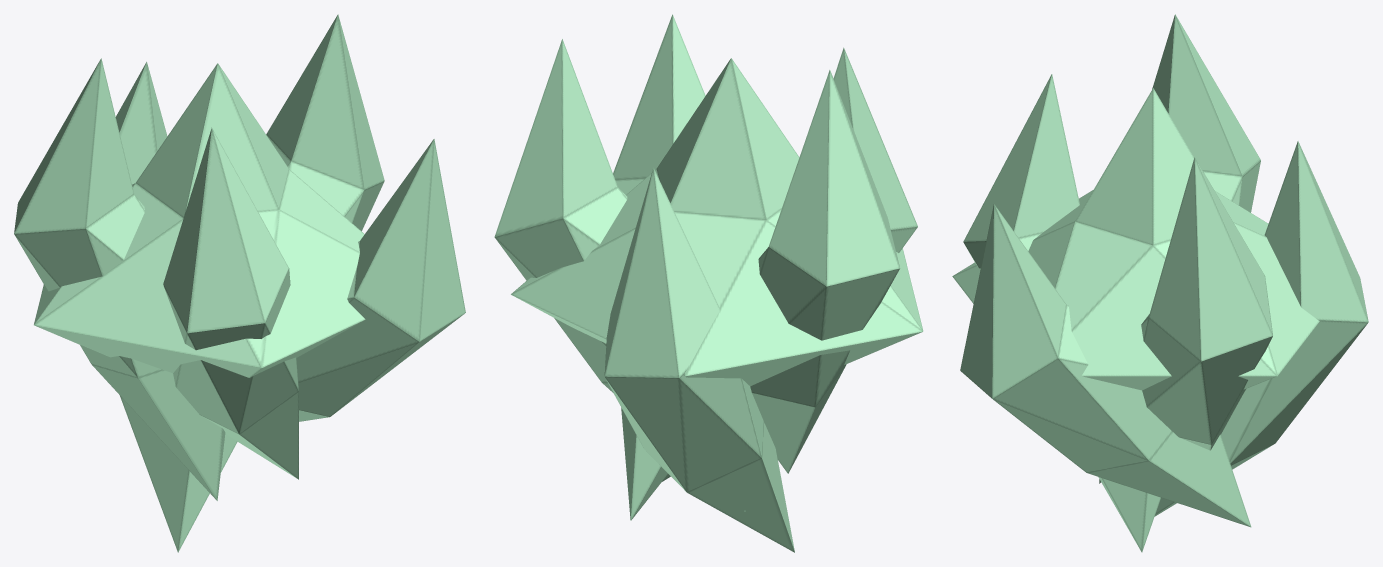
File: Crystal_02_02.fbx
3 views of the same model, side by side, from view 1: azimuth 30°, elevation 25°; view 2: azimuth 150°, elevation 25°; view 3: azimuth 270°, elevation 25° (orthographic). The views are drawn at different scales.
Parts seen in each view (by area): view 1: Crystal_02.001; view 2: Crystal_02.001; view 3: Crystal_02.001.
Part boxes in pixels (left/top/right/bottom): Crystal_02.001: left=14, top=14, right=465, bottom=552; Crystal_02.001: left=494, top=14, right=923, bottom=552; Crystal_02.001: left=952, top=14, right=1368, bottom=552.
Size of the model in its own units: 469 by 588 by 453.
1 material, 1 textured.
